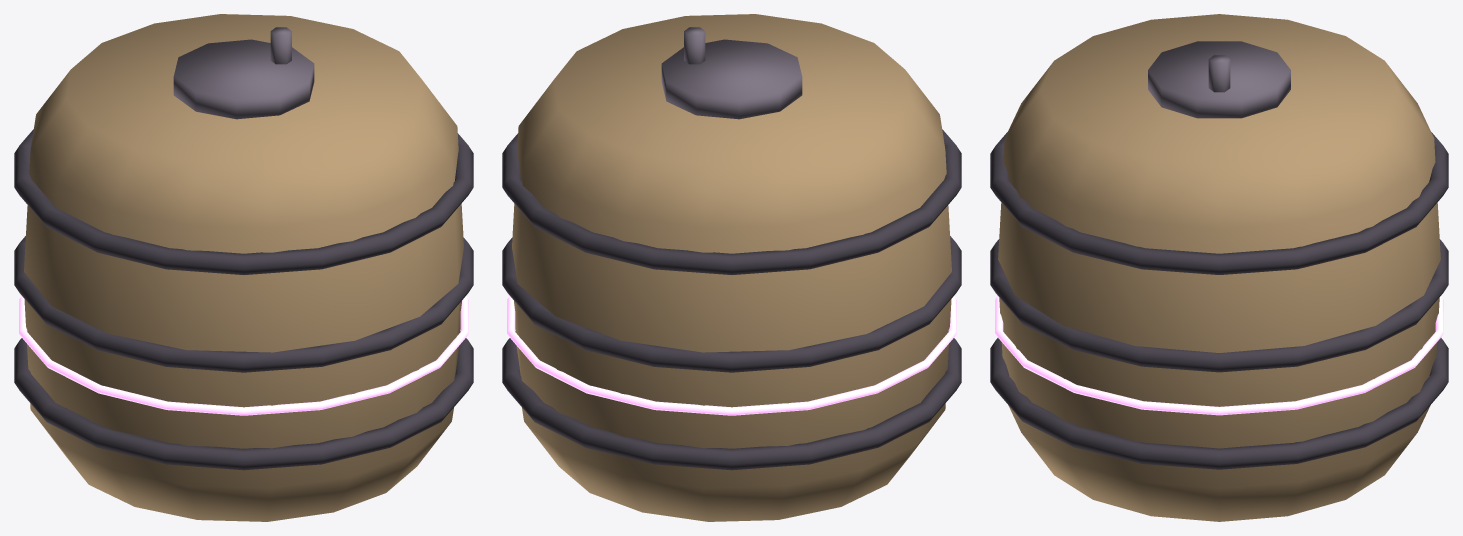
The model's file is v_ab_barrel.glb.
3 renders of one model, left to right at view 1: azimuth 30°, elevation 25°; view 2: azimuth 150°, elevation 25°; view 3: azimuth 270°, elevation 25°, orthographic.
Visible parts, largest first — view 1: Barrel; view 2: Barrel; view 3: Barrel.
Boxes of the visible parts, x1,y1,x2,y2 form: Barrel: [14, 14, 473, 521]; Barrel: [502, 14, 961, 521]; Barrel: [990, 14, 1448, 521].
Size of what is drawn, in the model's own units: 1.3 by 1.25 by 1.28.
